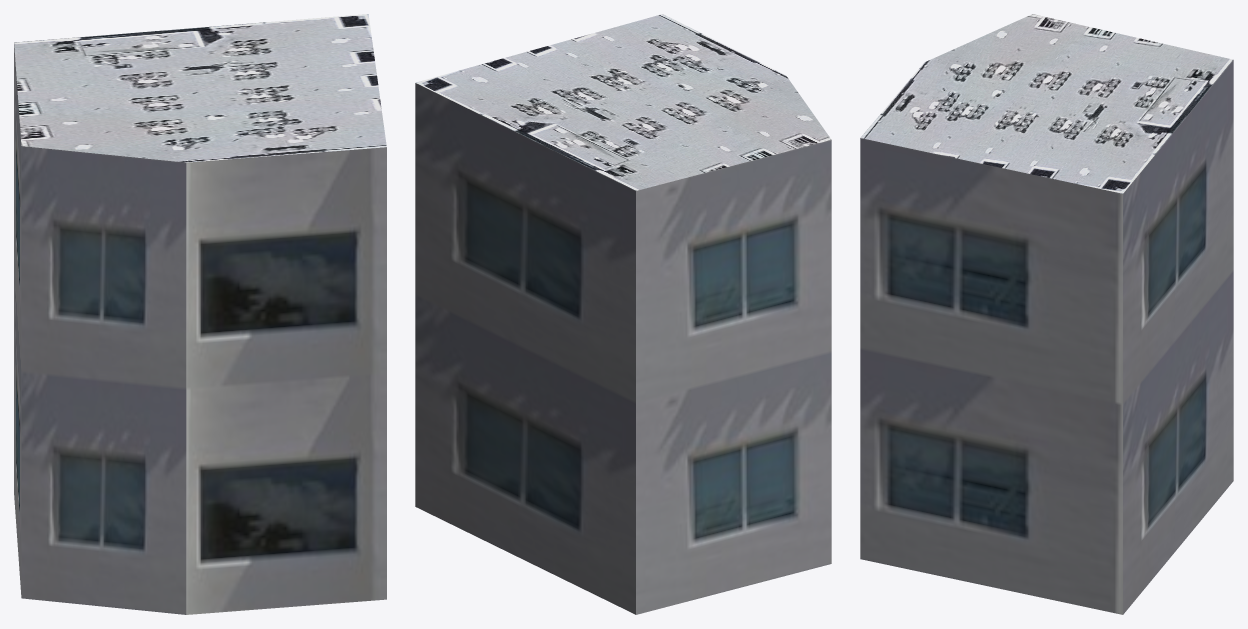
Rendered from ResTex__4586.fbx.
3 views of the same model, side by side, from view 1: azimuth 30°, elevation 25°; view 2: azimuth 150°, elevation 25°; view 3: azimuth 270°, elevation 25° (orthographic). The views are drawn at different scales.
Parts seen in each view (by area): view 1: CityEngineMaterial_10_m, CityEngineMaterial_8_m; view 2: CityEngineMaterial_10_m, CityEngineMaterial_8_m; view 3: CityEngineMaterial_10_m, CityEngineMaterial_8_m.
Part boxes in pixels (left/top/right/bottom): CityEngineMaterial_10_m: left=14, top=43, right=386, bottom=614; CityEngineMaterial_8_m: left=14, top=14, right=386, bottom=162; CityEngineMaterial_10_m: left=415, top=83, right=831, bottom=614; CityEngineMaterial_8_m: left=415, top=14, right=831, bottom=190; CityEngineMaterial_10_m: left=860, top=60, right=1233, bottom=614; CityEngineMaterial_8_m: left=860, top=14, right=1233, bottom=193.
Bounding box in the file's own units: 5.49 × 6 × 4.82.
Materials: 2 (2 with a texture image).
